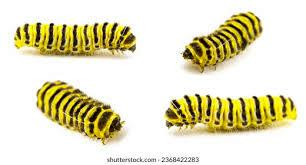Caterpillar: (30, 77, 134, 143), (181, 9, 268, 75), (160, 92, 299, 133), (15, 18, 138, 62)
